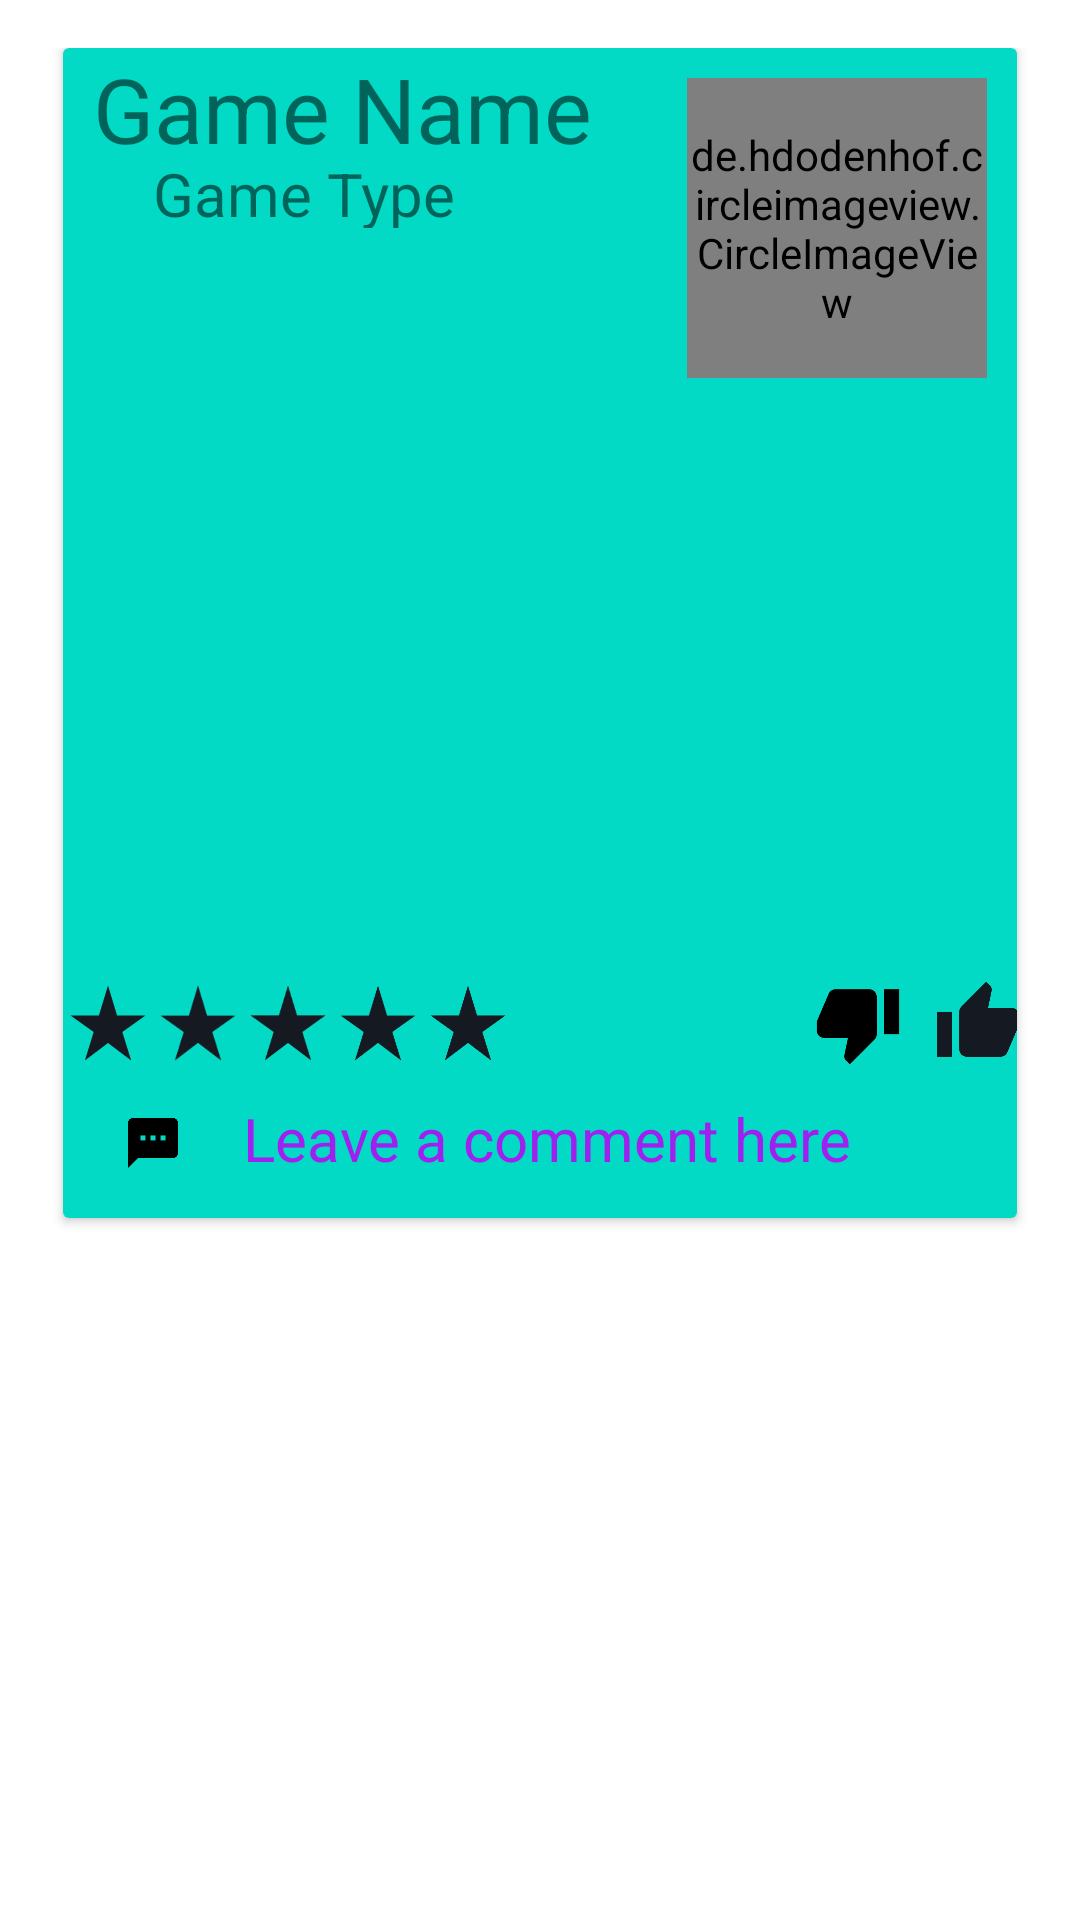

Icons on this 1080w x 1920h Android screen, each with its box as (left=x1, top=y1, right=x2, bottom=y2):
comments: (left=128, top=1118, right=178, bottom=1168)
dislike: (left=817, top=989, right=899, bottom=1064)
like: (left=937, top=982, right=1017, bottom=1057)
star: (left=71, top=986, right=145, bottom=1060), (left=161, top=986, right=235, bottom=1060), (left=251, top=986, right=325, bottom=1060), (left=341, top=986, right=415, bottom=1060), (left=431, top=986, right=505, bottom=1060)
